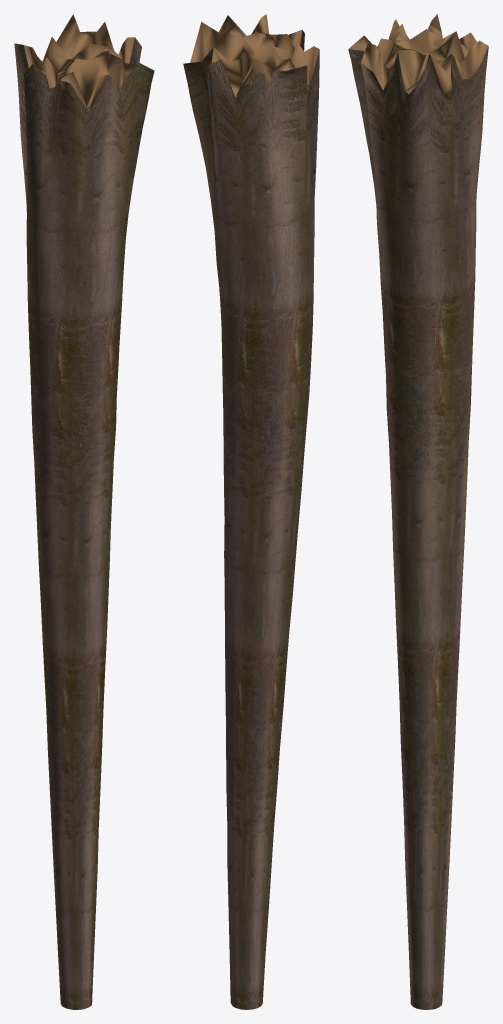
Rendered from tree-23-club.glb.
3 renders of one model, left to right at view 1: azimuth 90°, elevation 25°; view 2: azimuth 150°, elevation 25°; view 3: azimuth 270°, elevation 25°, orthographic.
Parts seen in each view (by area): view 1: SugarMaple_Individual23_Club; view 2: SugarMaple_Individual23_Club; view 3: SugarMaple_Individual23_Club.
Boxes of the visible parts, bbox=[...] form: SugarMaple_Individual23_Club: bbox=[14, 14, 154, 1009]; SugarMaple_Individual23_Club: bbox=[183, 14, 319, 1009]; SugarMaple_Individual23_Club: bbox=[348, 14, 488, 1009].
Bounding box in the file's own units: 0.5107 × 3.91 × 0.5139.
2 materials, 1 textured.
